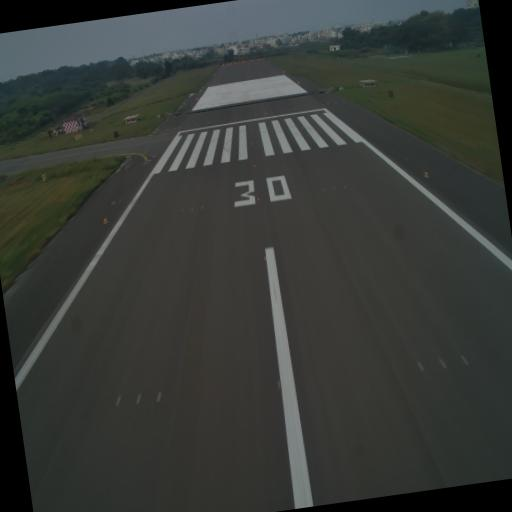off: (133, 389, 146, 410), (154, 384, 166, 405), (437, 353, 449, 373), (414, 356, 426, 375), (460, 351, 472, 368), (112, 391, 124, 408), (342, 182, 348, 192), (331, 184, 338, 192), (190, 205, 196, 214), (180, 207, 185, 214), (200, 204, 204, 212), (323, 186, 327, 192)
on: (263, 250, 269, 264), (422, 169, 430, 179), (101, 216, 109, 226), (256, 194, 261, 203), (253, 162, 257, 169), (251, 140, 254, 146)
